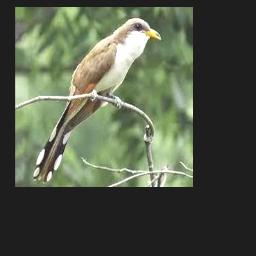Cuckoo: (33, 18, 160, 183)
